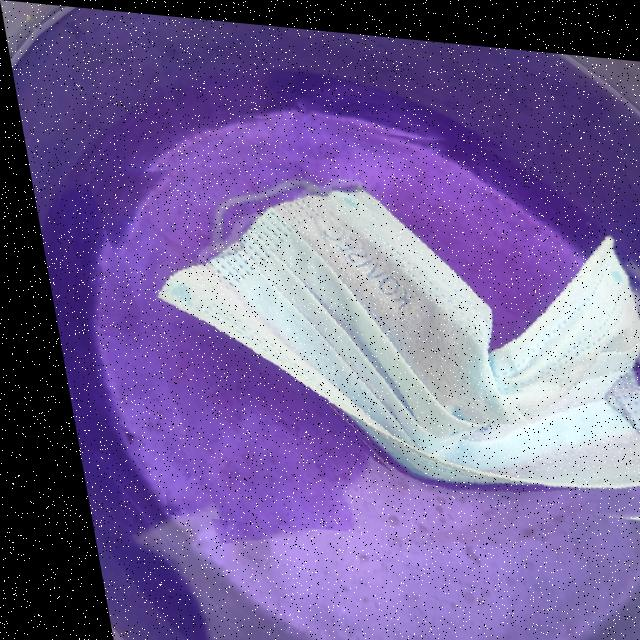mask: (83, 95, 640, 555)
